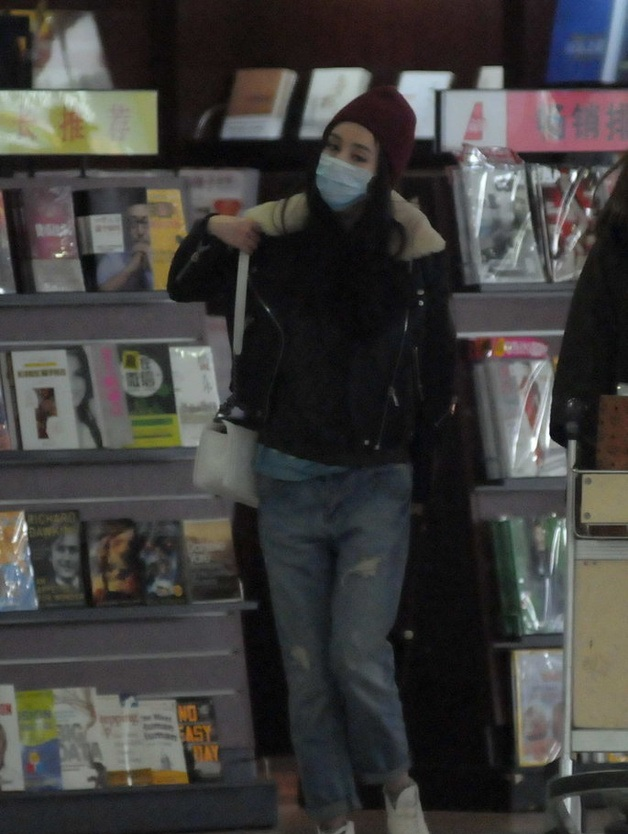face_mask: (317, 116, 378, 213), (51, 532, 79, 578)
